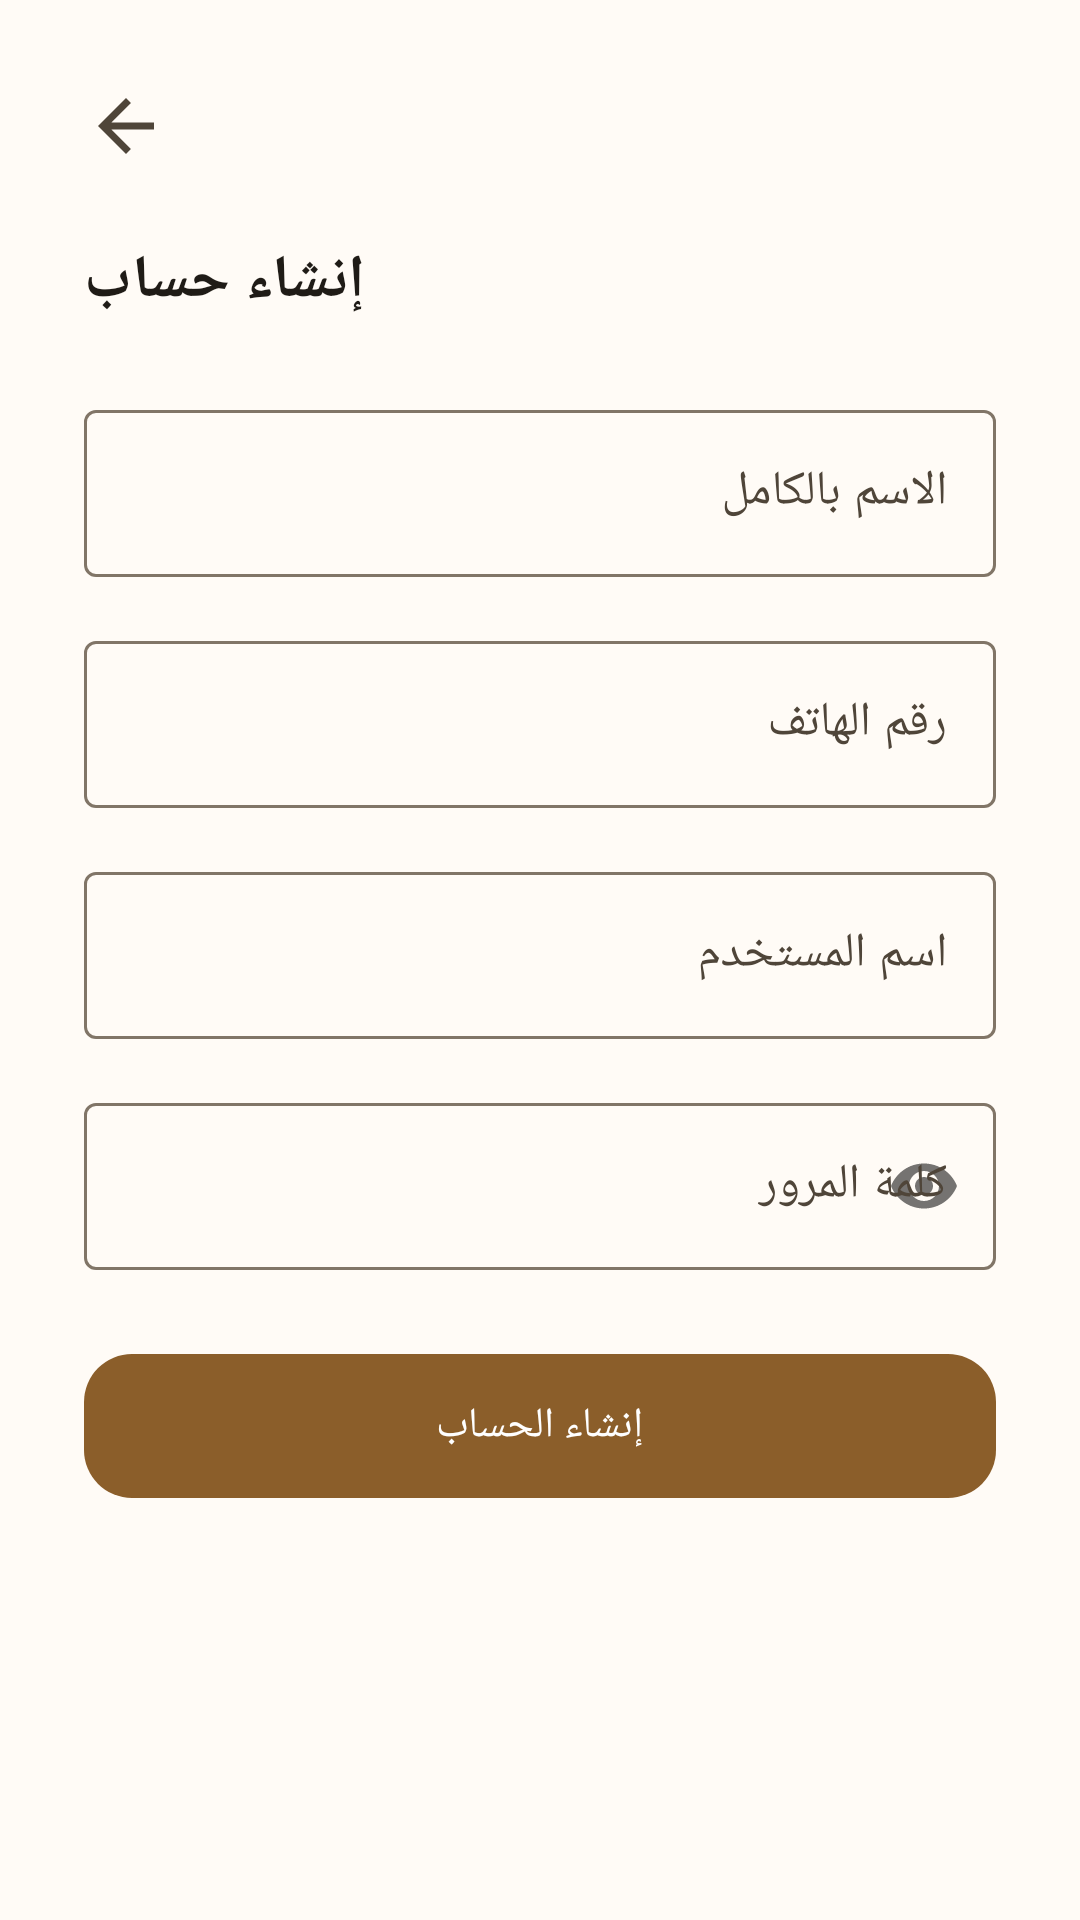

Named icons in this screenshot (1080×1920) and their centers, (x=x, y=y):
رجوع: (x=126, y=126)
